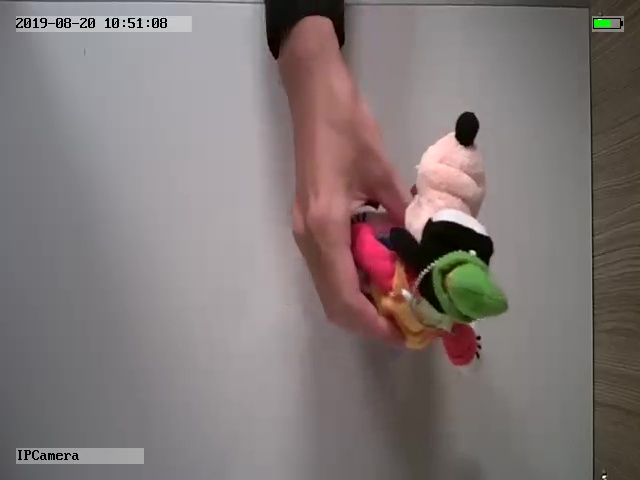goofy: (349, 109, 509, 374)
